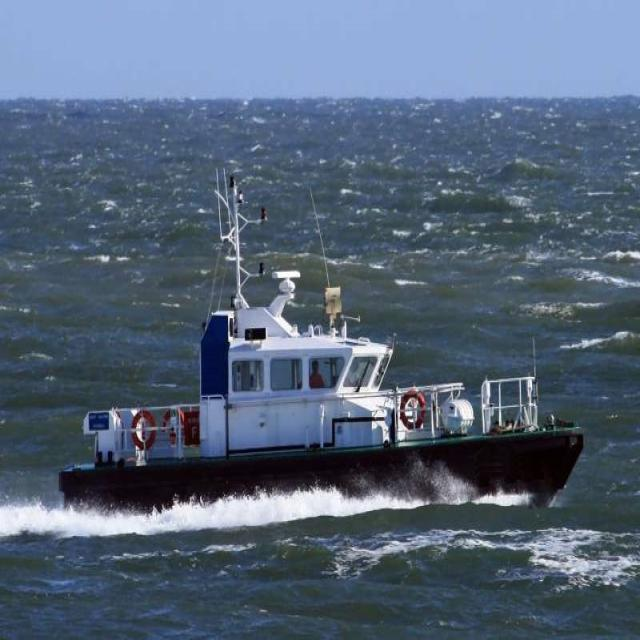houseboat: (55, 185, 587, 523)
